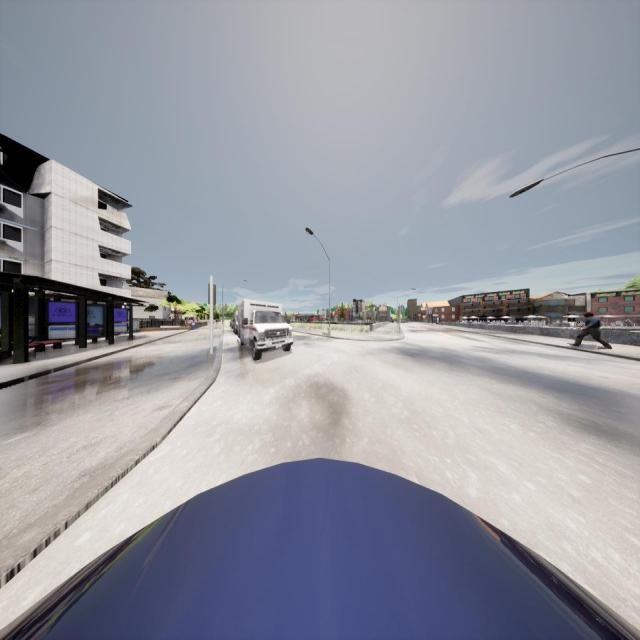Pedestrian: (572, 311, 612, 349)
Vehicle: (1, 457, 640, 639), (238, 298, 293, 360), (233, 310, 238, 335), (229, 319, 232, 329)
traffic_light: (208, 284, 216, 304)
